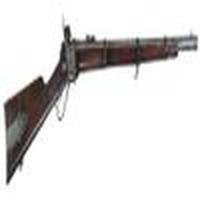gun: (1, 34, 200, 153)
